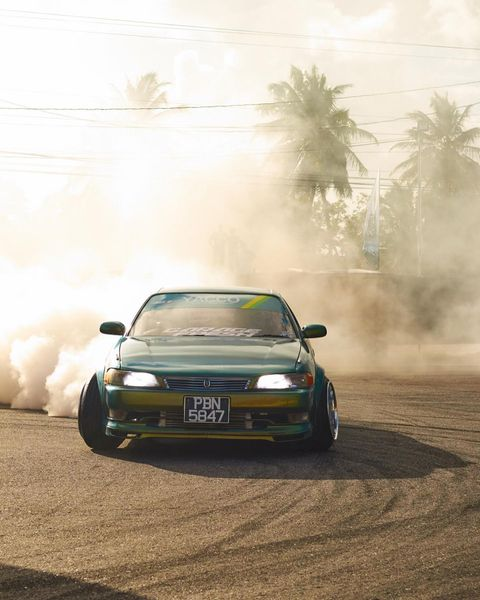License-Plate: (184, 396, 228, 422)
